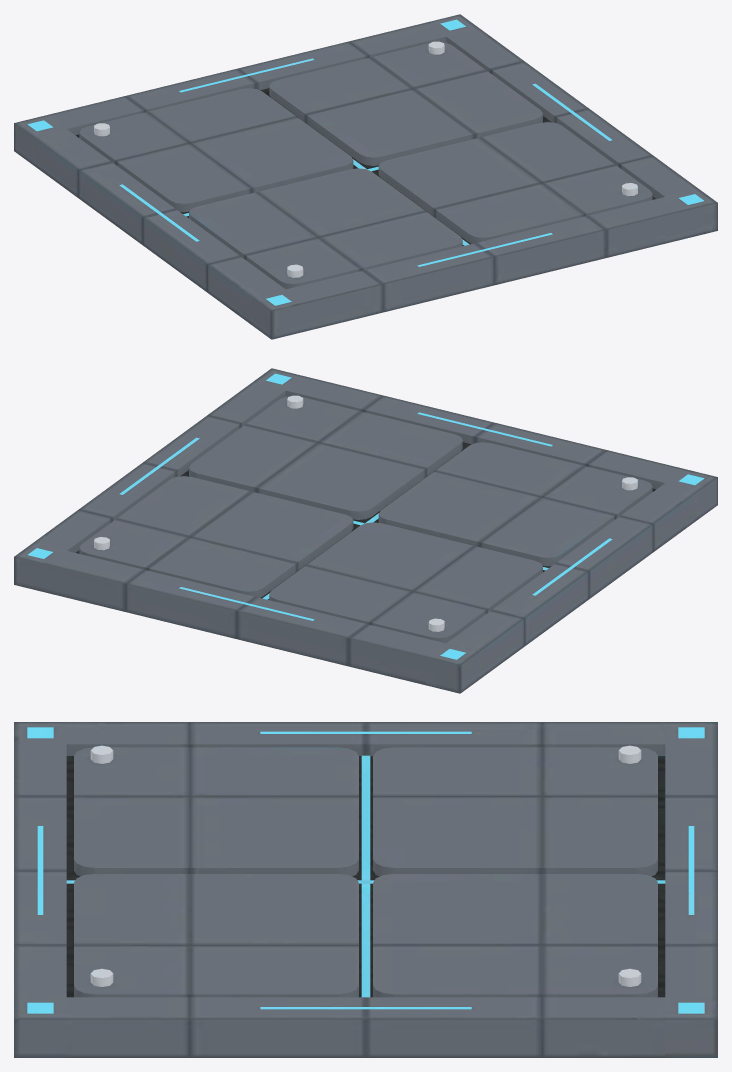
File: hull_enterprise_platform_armored.glb
3 renders of one model, top to bottom at view 1: azimuth 30°, elevation 25°; view 2: azimuth 150°, elevation 25°; view 3: azimuth 270°, elevation 25°, orthographic. The views are drawn at different scales.
Parts seen in each view (by area): view 1: te_hull_enterprise_platform_armored; view 2: te_hull_enterprise_platform_armored; view 3: te_hull_enterprise_platform_armored.
Part boxes in pixels (x1,y1,x2,y2): te_hull_enterprise_platform_armored: [14, 14, 717, 339]; te_hull_enterprise_platform_armored: [14, 368, 717, 693]; te_hull_enterprise_platform_armored: [14, 722, 717, 1057].
Size of the model in its own units: 1 by 0.074 by 1.
1 material, 1 textured.
